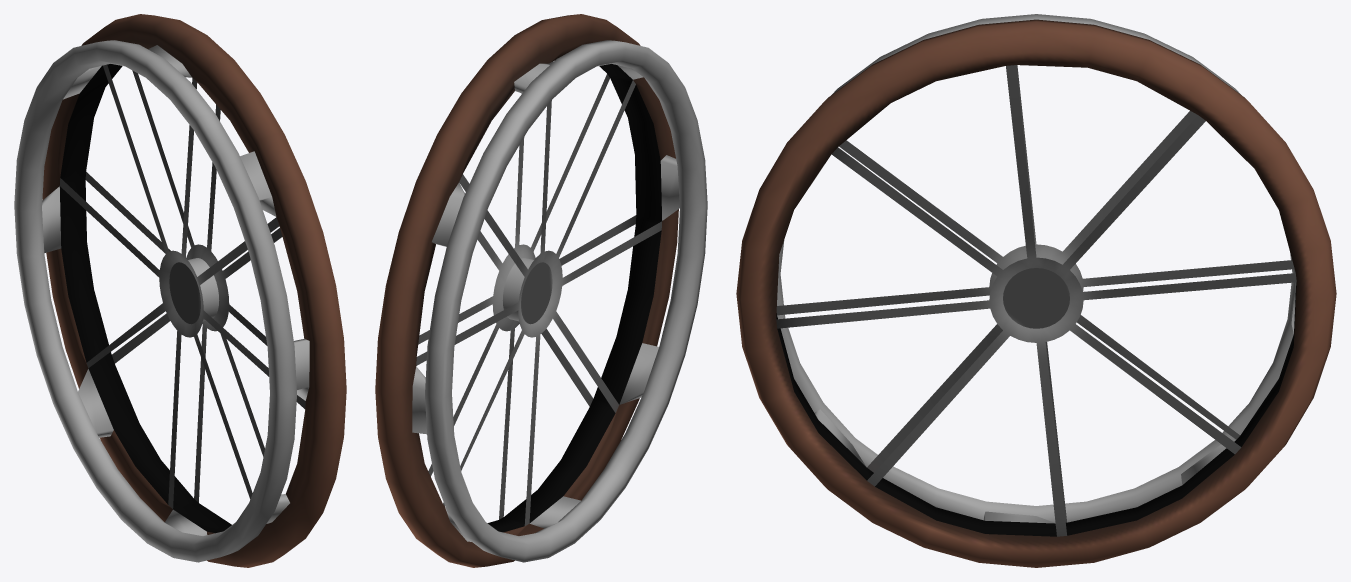
Rendered from roda.fbx.
3 renders of one model, left to right at view 1: azimuth 30°, elevation 25°; view 2: azimuth 150°, elevation 25°; view 3: azimuth 270°, elevation 25°, orthographic. The views are drawn at different scales.
Parts seen in each view (by area): view 1: Roda; view 2: Roda; view 3: Roda.
Boxes of the visible parts, bbox=[...] form: Roda: bbox=[14, 14, 346, 567]; Roda: bbox=[375, 14, 707, 567]; Roda: bbox=[736, 14, 1336, 567].
Bounding box in the file's own units: 1.8 × 14.16 × 14.16.
